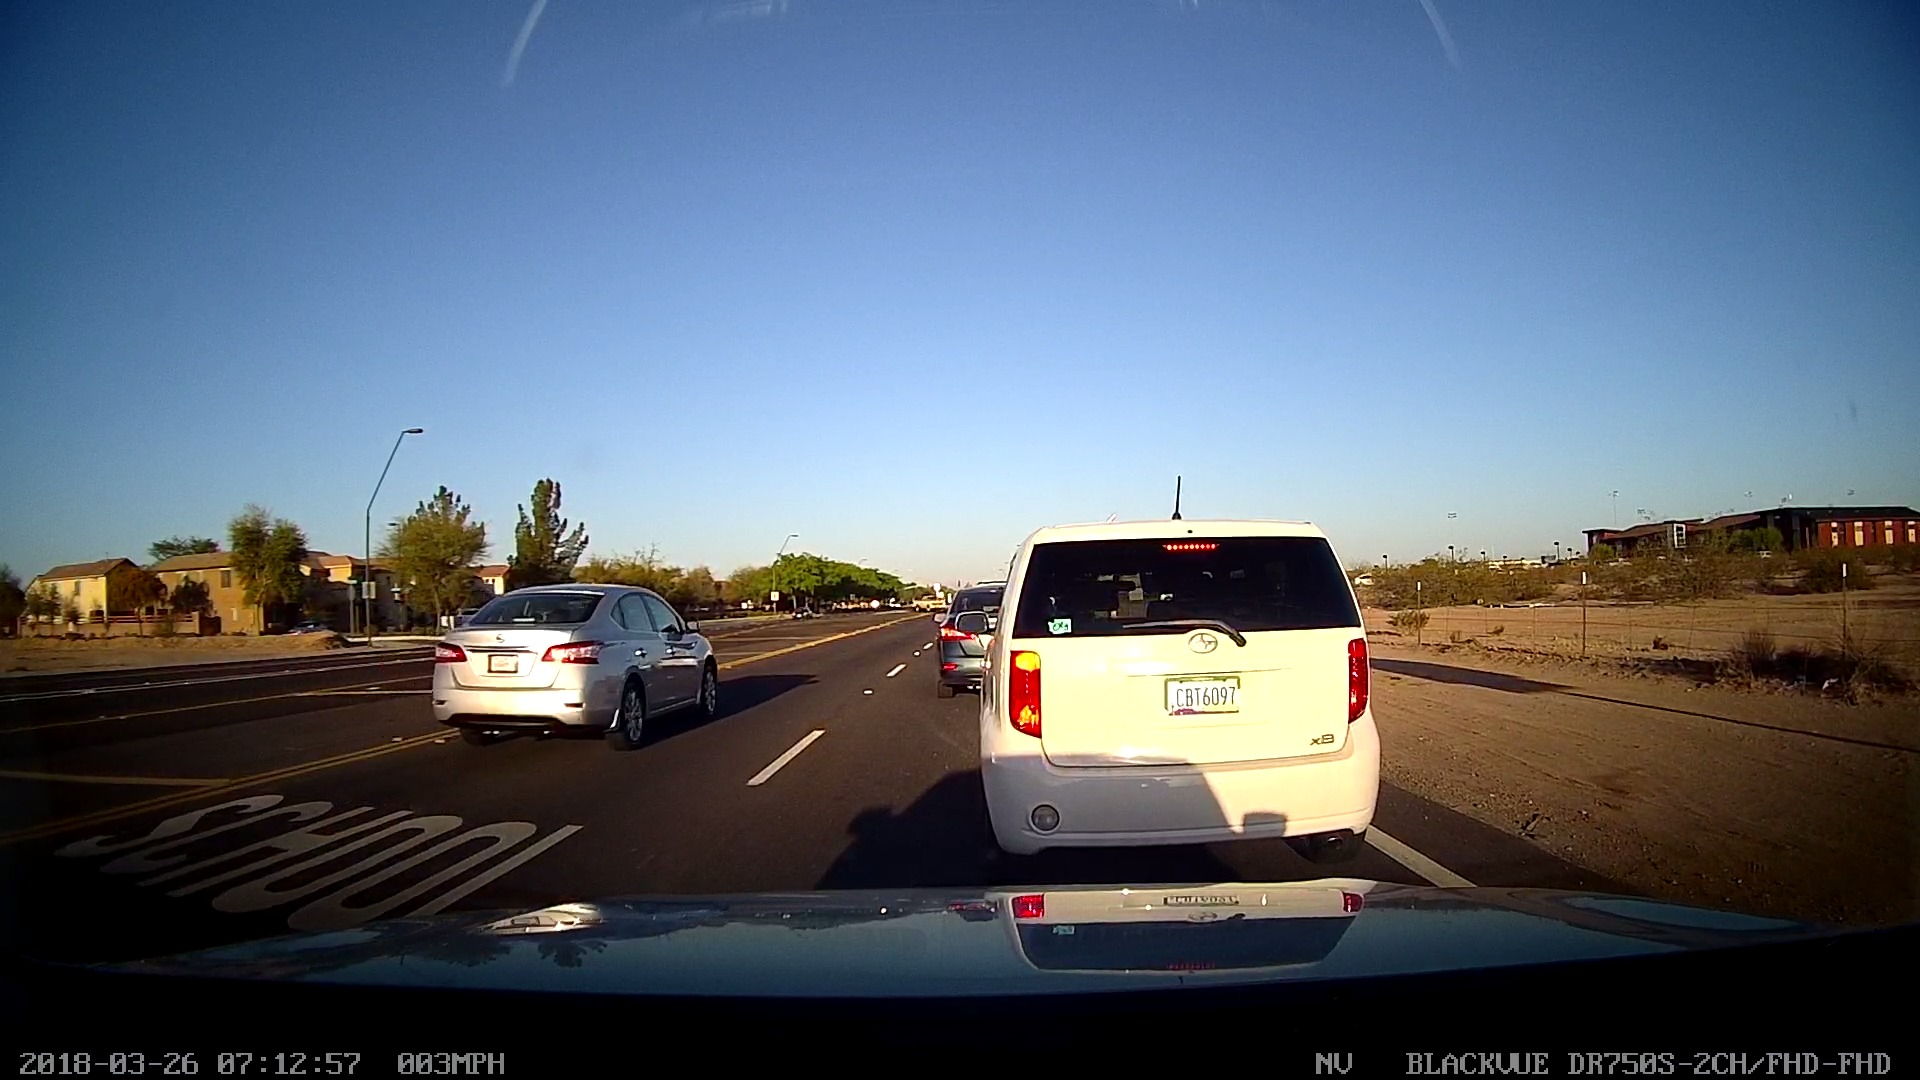plate: (1154, 670, 1249, 718)
vehicle: (970, 515, 1391, 870), (418, 576, 734, 755), (923, 570, 1031, 703)
